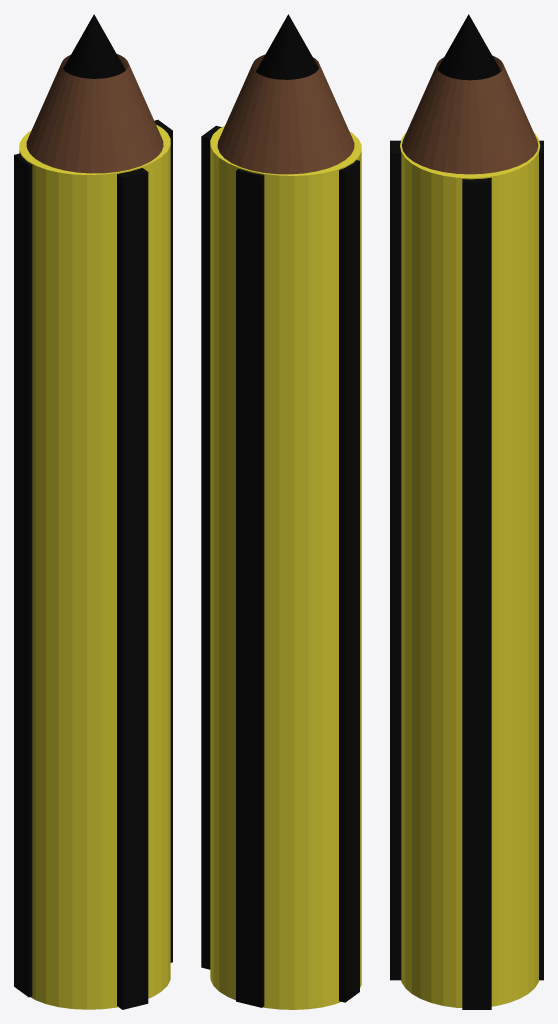
The model's file is Pencil.fbx.
The picture shows the model from 3 angles, left to right: view 1: azimuth 30°, elevation 25°; view 2: azimuth 150°, elevation 25°; view 3: azimuth 270°, elevation 25°; orthographic projection.
Parts seen in each view (by area): view 1: Cylinder, Cube, Cube.003, Circle, Cube.002, Cone; view 2: Cylinder, Cube.001, Cube.003, Circle, Cube.002, Cone; view 3: Cylinder, Cube.002, Circle, Cube, Cube.001, Cone.
Boxes of the visible parts, <box> form: Cylinder: <box>19,124,170,1009</box>; Cube: <box>117,168,148,1009</box>; Cube.003: <box>14,153,32,997</box>; Circle: <box>26,54,163,173</box>; Cube.002: <box>154,120,172,962</box>; Cone: <box>63,14,125,78</box>; Cylinder: <box>210,125,361,1009</box>; Cube.001: <box>236,168,264,1007</box>; Cube.003: <box>339,160,359,1002</box>; Circle: <box>217,54,354,174</box>; Cube.002: <box>201,125,221,969</box>; Cone: <box>256,14,318,79</box>; Cylinder: <box>400,132,540,1007</box>; Cube.002: <box>462,177,491,1009</box>; Circle: <box>402,55,538,174</box>; Cube: <box>390,140,401,980</box>; Cube.001: <box>539,140,543,980</box>; Cone: <box>437,14,500,80</box>.
Bounding box in the file's own units: 0.1317 × 0.8433 × 0.1222.
